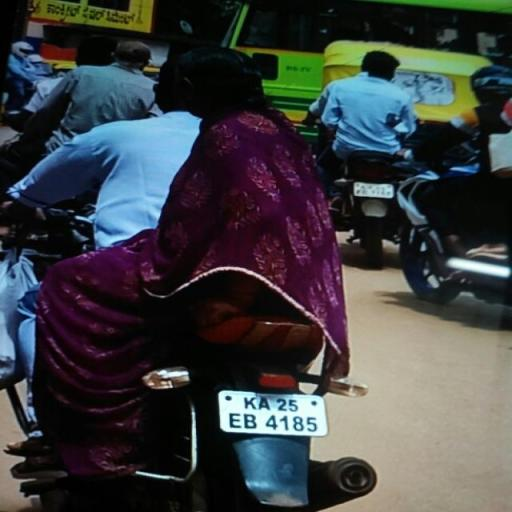bike: (10, 41, 392, 512)
numberplate: (222, 389, 331, 438)
withouthelmet: (188, 48, 257, 112), (157, 56, 185, 110)
